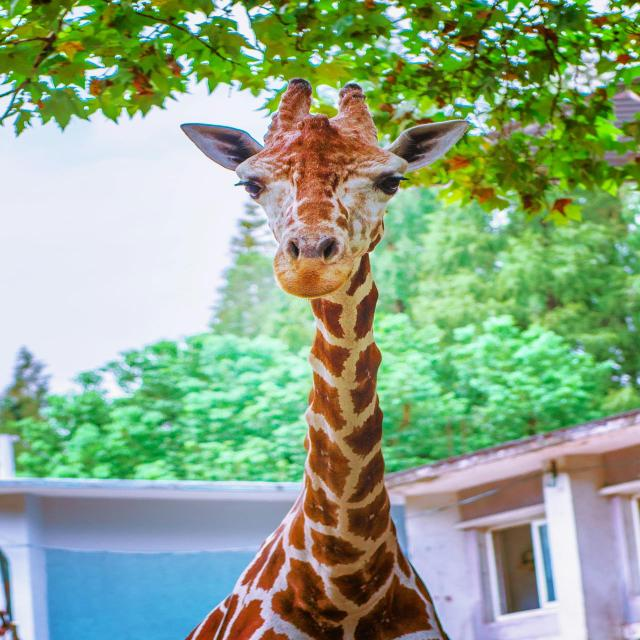Giraffe: (181, 79, 474, 640)
